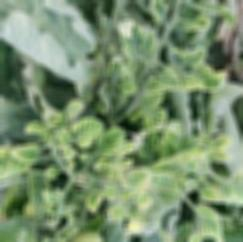Tomato leaf yellow virus: (163, 138, 221, 178), (67, 111, 114, 146), (116, 11, 144, 64), (194, 203, 230, 242), (113, 166, 158, 196), (91, 123, 128, 158), (190, 63, 231, 94), (139, 93, 171, 132), (0, 141, 21, 190), (14, 138, 46, 168), (222, 170, 243, 207), (154, 69, 183, 91)
